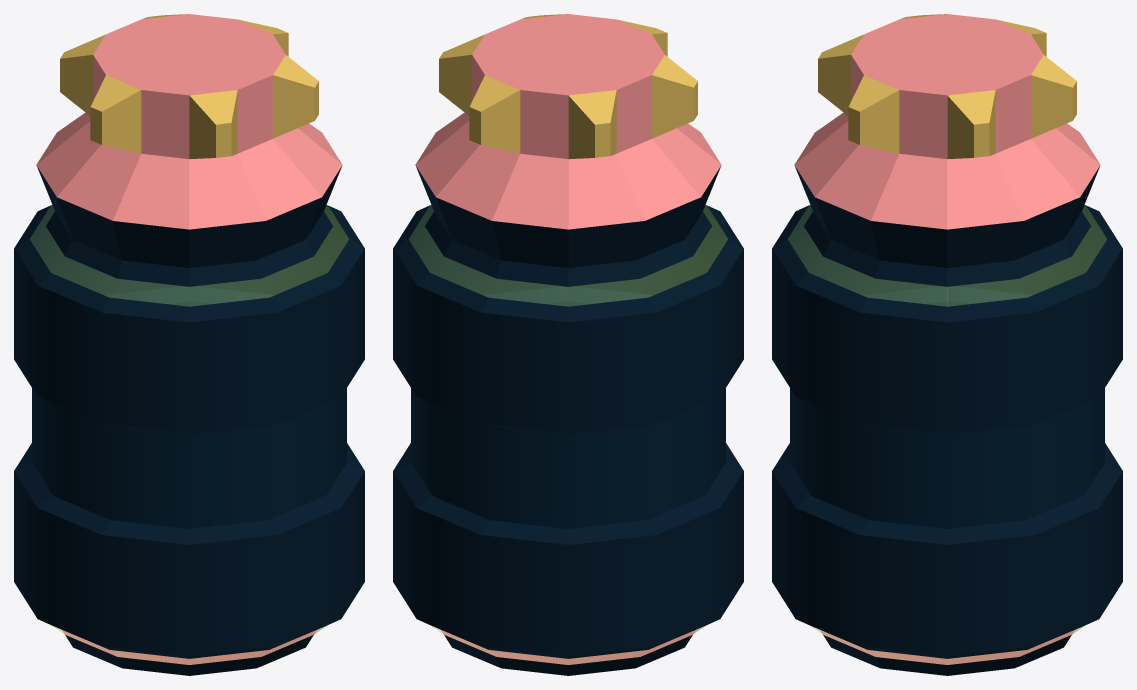
Rendered from granada.fbx.
3 renders of one model, left to right at view 1: azimuth 30°, elevation 25°; view 2: azimuth 150°, elevation 25°; view 3: azimuth 270°, elevation 25°, orthographic.
Parts seen in each view (by area): view 1: granada; view 2: granada; view 3: granada.
Boxes of the visible parts, bbox=[...] form: granada: bbox=[14, 14, 364, 675]; granada: bbox=[393, 14, 743, 675]; granada: bbox=[772, 14, 1122, 675].
Size of the model in its own units: 4.27 by 7.59 by 4.27.
